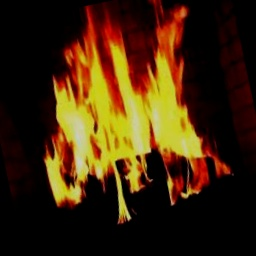fire: (5, 0, 241, 238)
